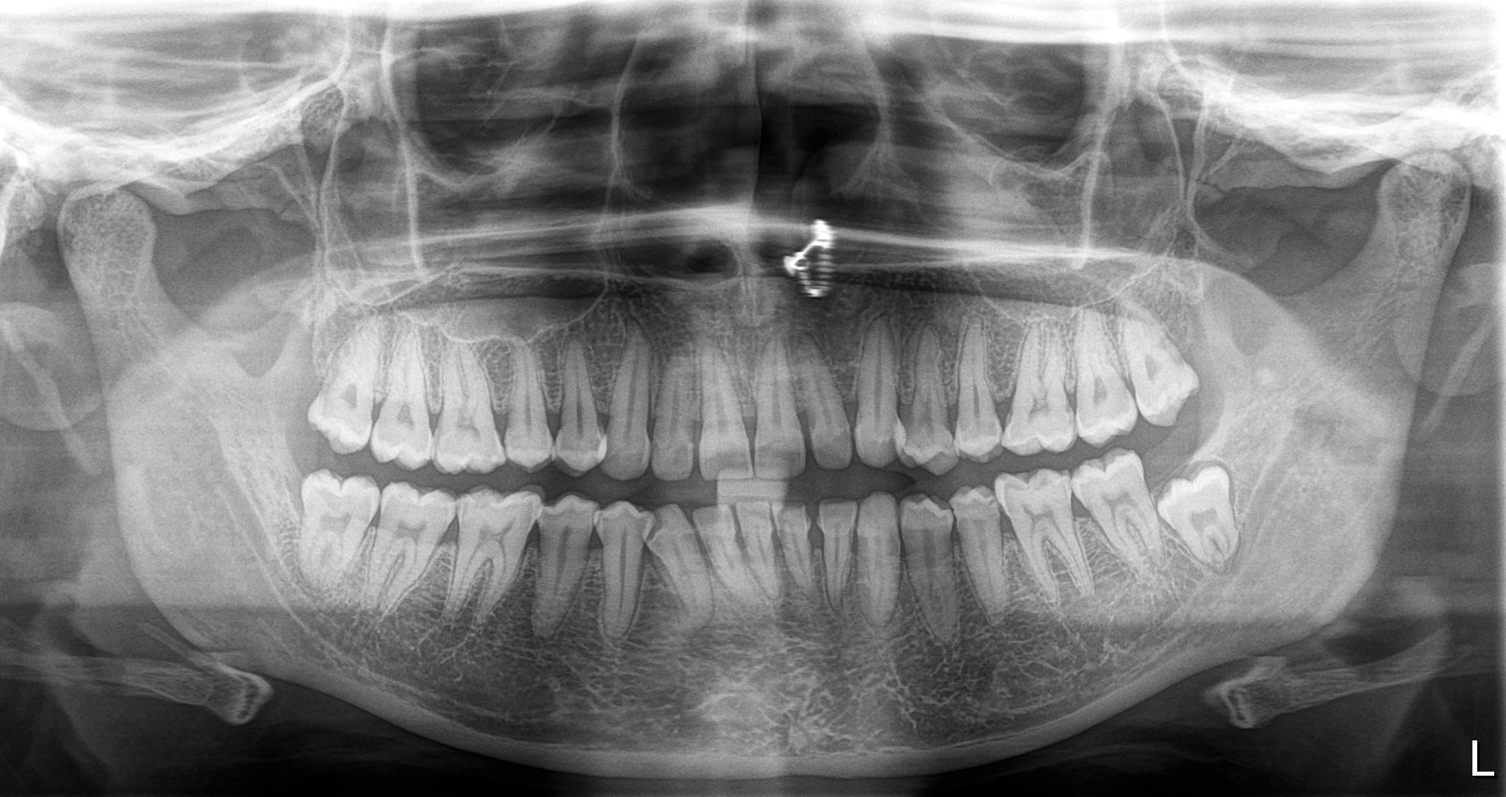Impacted Third Molar: (1158, 478, 1241, 564)
